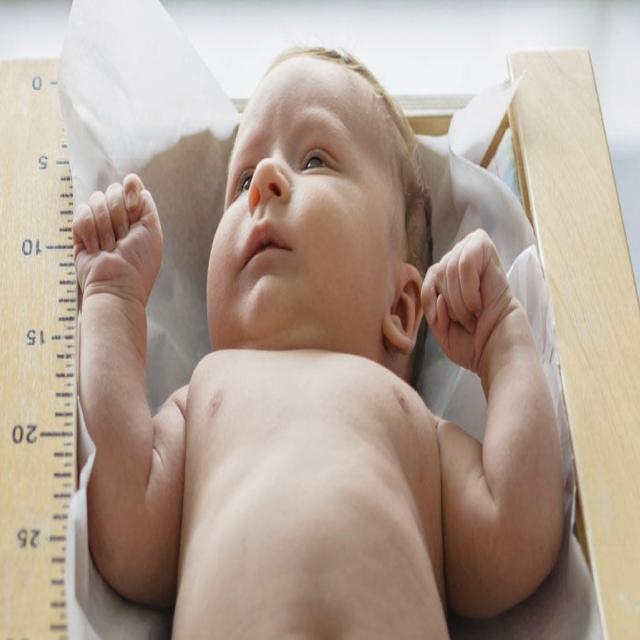non-dog: (71, 46, 570, 640)
